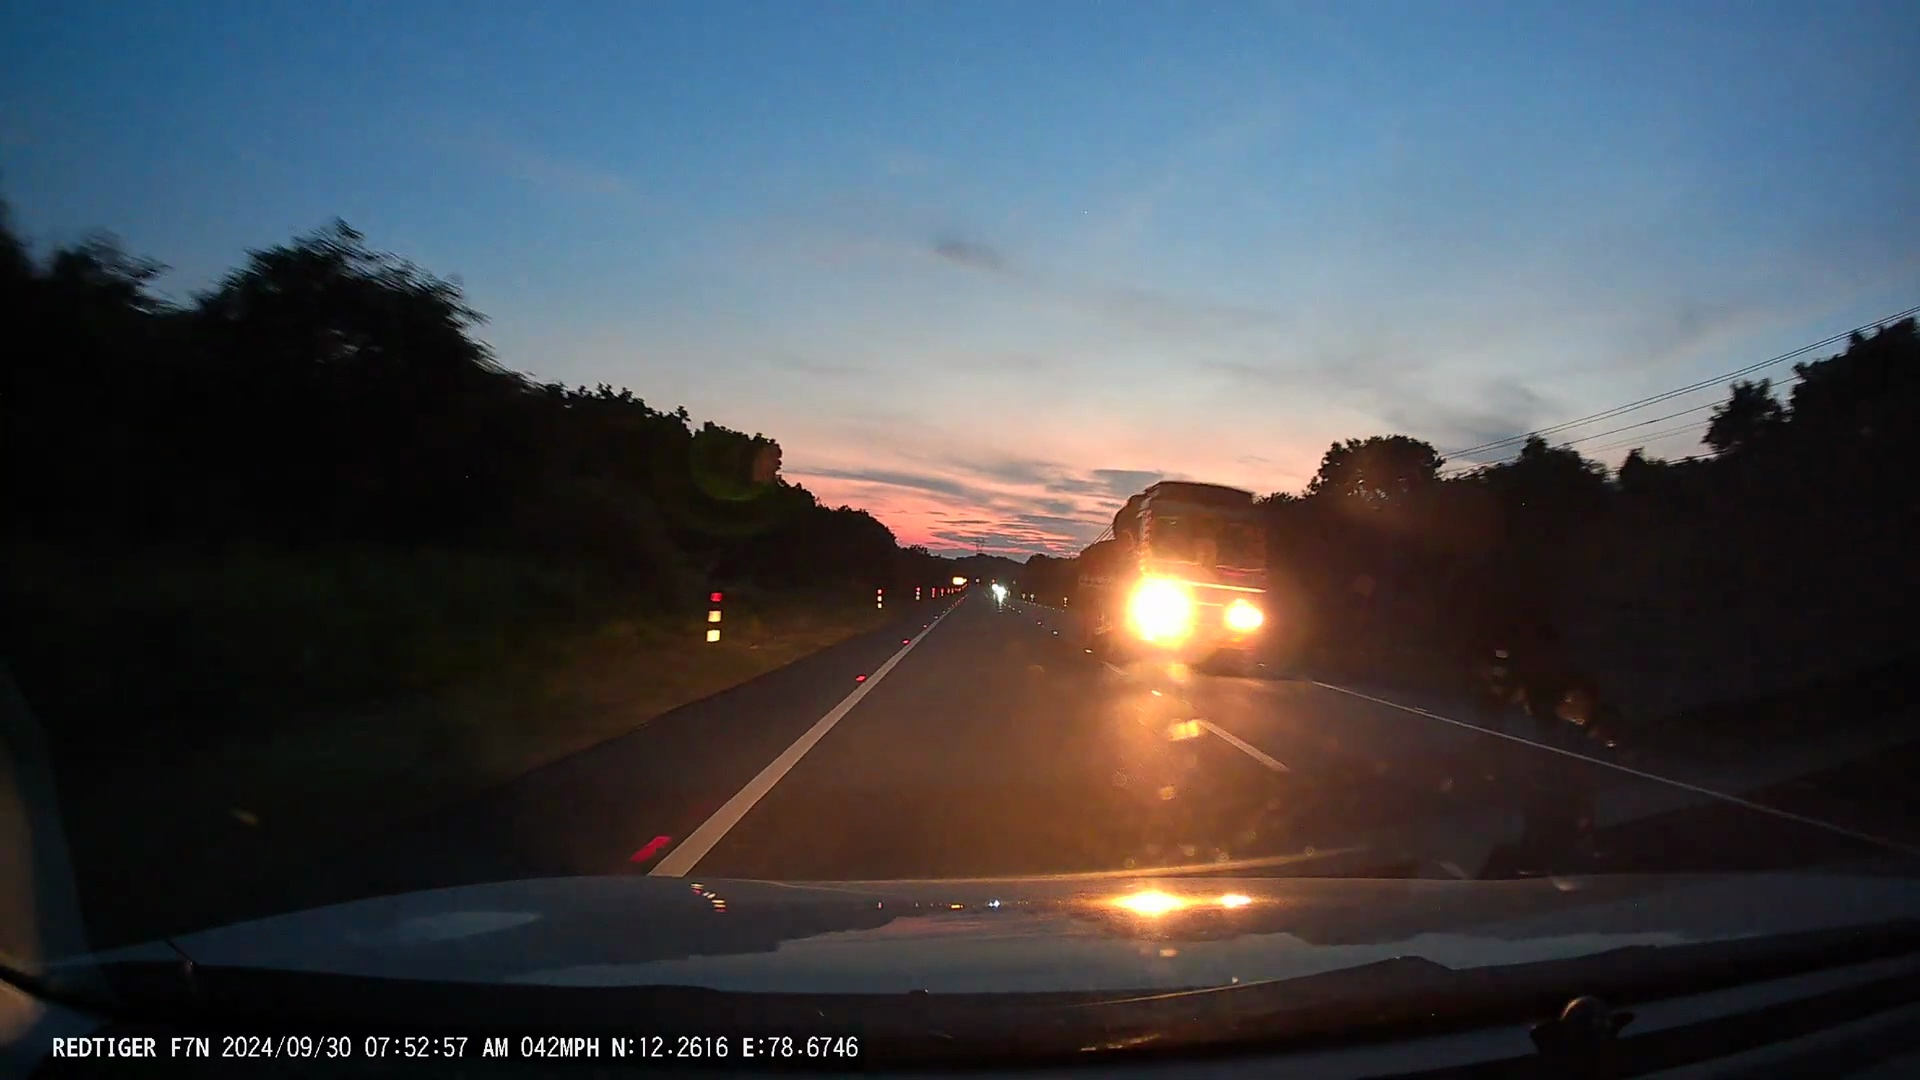four wheeler: (1058, 491, 1279, 665)
headlight: (1118, 575, 1203, 647), (1222, 595, 1266, 641), (994, 587, 1004, 597)
two wheeler: (990, 582, 1011, 607)
